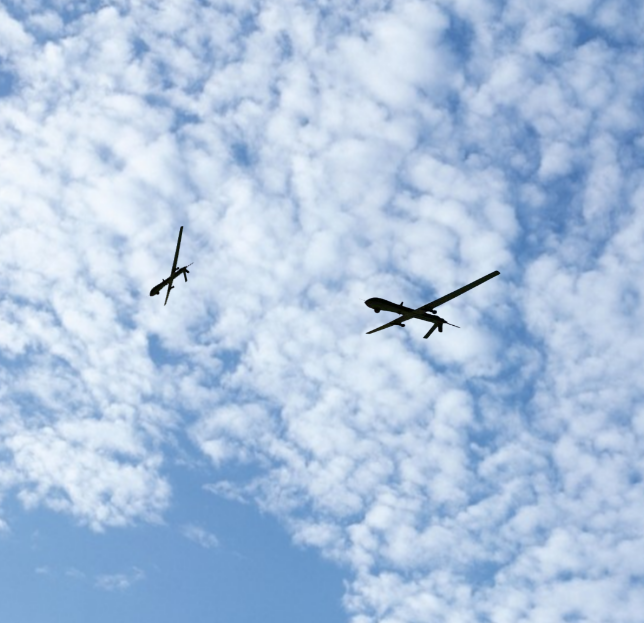military drone: (363, 270, 500, 338), (149, 226, 193, 305)
